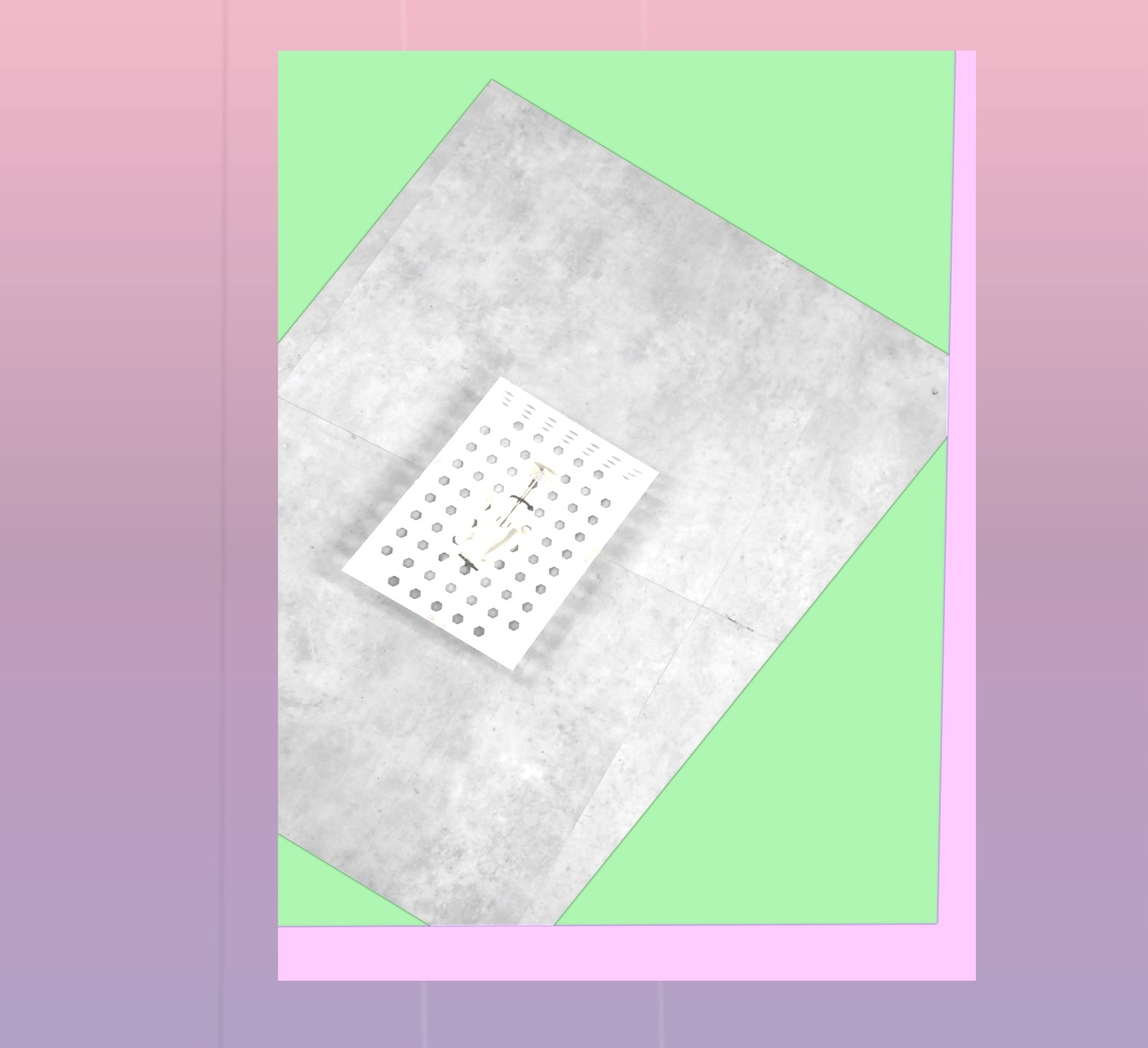basket: (334, 373, 666, 681)
mannequin: (432, 448, 560, 586)
